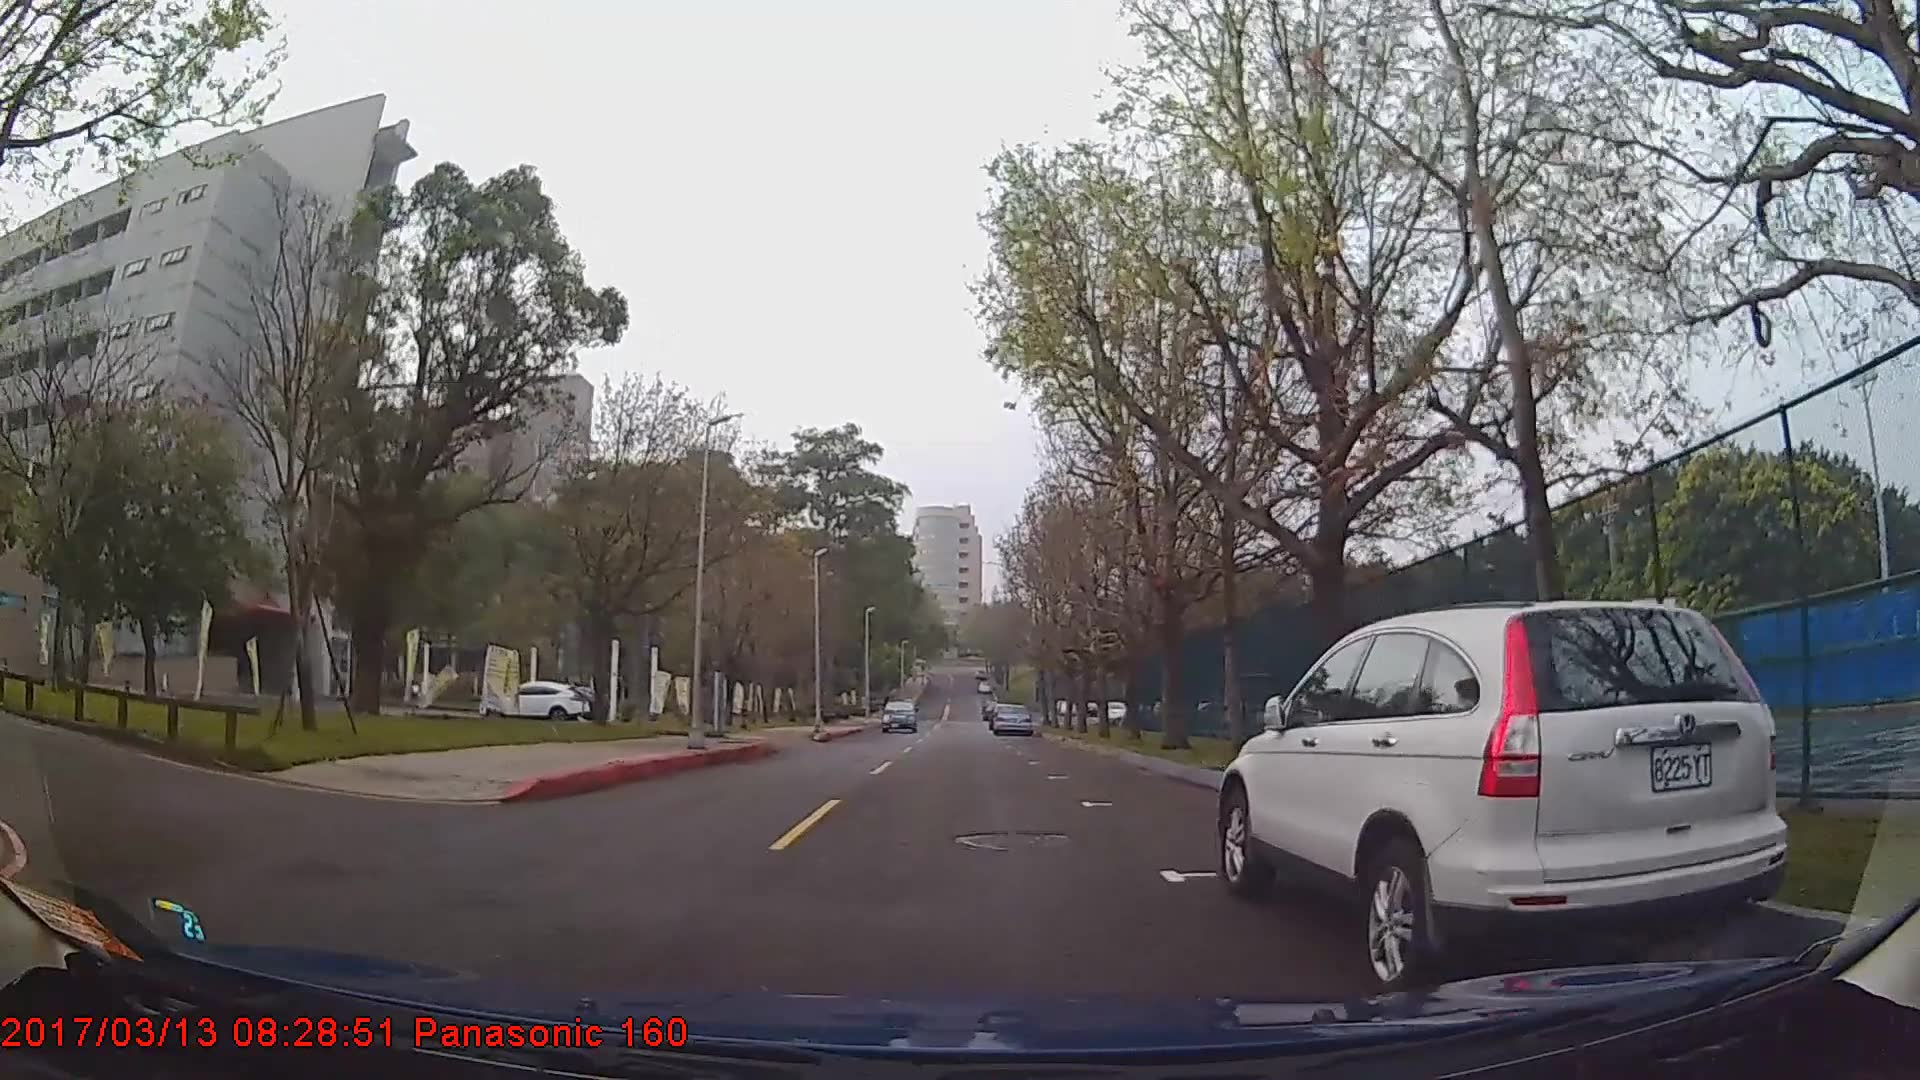vehicle: (1216, 597, 1792, 996), (483, 679, 589, 723), (992, 699, 1031, 733), (881, 699, 916, 735)
